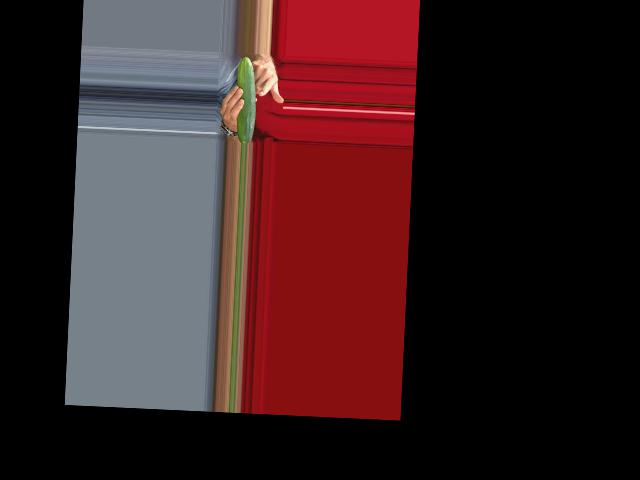cucumber: (233, 57, 258, 143)
